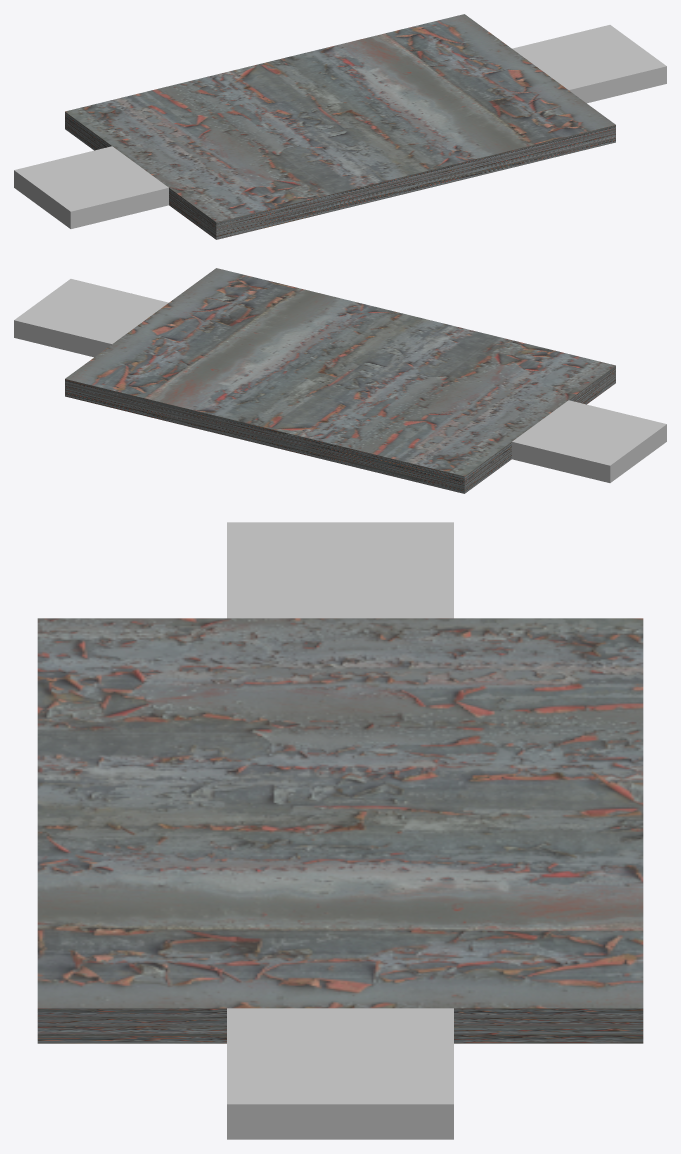
File: floor.obj
3 views of the same model, one above another, from view 1: azimuth 30°, elevation 25°; view 2: azimuth 150°, elevation 25°; view 3: azimuth 270°, elevation 25° (orthographic). The views are drawn at different scales.
Visible parts, largest first — view 1: floor_Cube, floor_extra_2_Cube.012, floor_extra_1_Cube.013; view 2: floor_Cube, floor_extra_2_Cube.012, floor_extra_1_Cube.013; view 3: floor_Cube, floor_extra_1_Cube.013, floor_extra_2_Cube.012.
Boxes of the visible parts, x1,y1,x2,y2 form: floor_Cube: [65, 14, 615, 239]; floor_extra_2_Cube.012: [14, 146, 168, 228]; floor_extra_1_Cube.013: [512, 25, 666, 103]; floor_Cube: [65, 268, 615, 493]; floor_extra_2_Cube.012: [512, 400, 666, 482]; floor_extra_1_Cube.013: [14, 279, 168, 357]; floor_Cube: [37, 618, 643, 1043]; floor_extra_1_Cube.013: [227, 1008, 453, 1139]; floor_extra_2_Cube.012: [227, 522, 453, 618].
Bounding box in the file's own units: 782 × 22 × 344.
